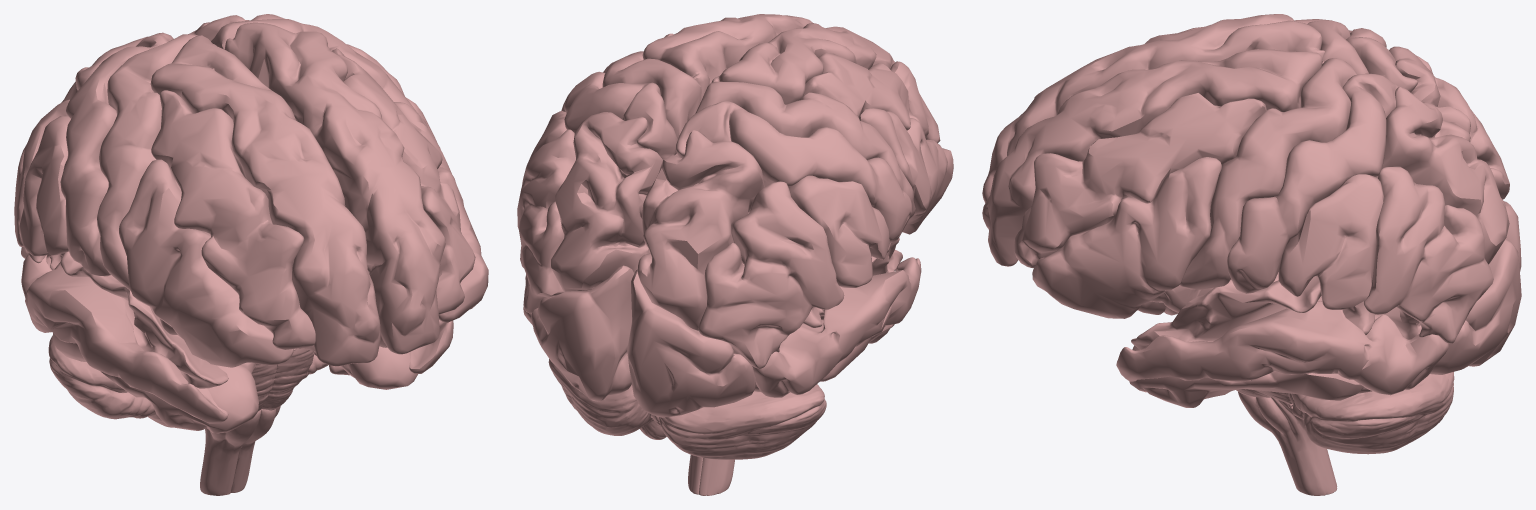
The model's file is brain.glb.
3 views of the same model, side by side, from view 1: azimuth 30°, elevation 25°; view 2: azimuth 150°, elevation 25°; view 3: azimuth 270°, elevation 25° (orthographic). The views are drawn at different scales.
Visible parts, largest first — view 1: FJ1834 · segment of brain, FJ1833 · segment of brain, FJ1788 · segment of brain, FJ1745 · segment of brain, FJ1790 · segment of brain, FJ1801 · segment of brain, FJ1798 · segment of brain, FJ1787 · segment of brain, FJ1842 · segment of brain, FJ1806 · anatomical cluster, FJ1747 · segment of brain, FJ1830 · physical anatomical entity (+11 smaller); view 2: FJ1733 · segment of brain, FJ1836 · segment of brain, FJ1835 · segment of brain, FJ1792 · segment of brain, FJ1798 · segment of brain, FJ1791 · segment of brain, FJ1790 · segment of brain, FJ1830 · physical anatomical entity, FJ1834 · segment of brain, FJ1842 · segment of brain, FJ1732 · segment of brain, FJ1801 · segment of brain (+11 smaller); view 3: FJ1833 · segment of brain, FJ1787 · segment of brain, FJ1789 · segment of brain, FJ1744 · segment of brain, FJ1732 · segment of brain, FJ1797 · segment of brain, FJ1800 · segment of brain, FJ1834 · segment of brain, FJ1841 · segment of brain, FJ1835 · segment of brain, FJ1781 · physical anatomical entity, FJ1758 · anatomical cluster (+7 smaller).
Part boxes in pixels (x1=…): FJ1834 · segment of brain: x1=150, y1=35, x2=380, y2=366; FJ1833 · segment of brain: x1=224, y1=22, x2=445, y2=354; FJ1788 · segment of brain: x1=151, y1=90, x2=315, y2=349; FJ1745 · segment of brain: x1=119, y1=159, x2=293, y2=367; FJ1790 · segment of brain: x1=21, y1=254, x2=228, y2=423; FJ1801 · segment of brain: x1=97, y1=34, x2=198, y2=290; FJ1798 · segment of brain: x1=60, y1=32, x2=173, y2=276; FJ1787 · segment of brain: x1=332, y1=48, x2=475, y2=314; FJ1842 · segment of brain: x1=19, y1=116, x2=70, y2=256; FJ1806 · anatomical cluster: x1=50, y1=251, x2=315, y2=388; FJ1747 · segment of brain: x1=52, y1=333, x2=258, y2=433; FJ1830 · physical anatomical entity: x1=48, y1=335, x2=172, y2=427; FJ1733 · segment of brain: x1=698, y1=181, x2=844, y2=368; FJ1836 · segment of brain: x1=637, y1=130, x2=764, y2=330; FJ1835 · segment of brain: x1=551, y1=112, x2=662, y2=292; FJ1792 · segment of brain: x1=627, y1=269, x2=755, y2=417; FJ1798 · segment of brain: x1=676, y1=101, x2=912, y2=242; FJ1791 · segment of brain: x1=531, y1=265, x2=634, y2=401; FJ1790 · segment of brain: x1=752, y1=257, x2=921, y2=397; FJ1830 · physical anatomical entity: x1=659, y1=384, x2=826, y2=459; FJ1834 · segment of brain: x1=711, y1=23, x2=895, y2=104; FJ1842 · segment of brain: x1=789, y1=175, x2=889, y2=287; FJ1732 · segment of brain: x1=517, y1=129, x2=575, y2=313; FJ1801 · segment of brain: x1=695, y1=81, x2=915, y2=219; FJ1833 · segment of brain: x1=982, y1=49, x2=1323, y2=266; FJ1787 · segment of brain: x1=1014, y1=93, x2=1266, y2=267; FJ1789 · segment of brain: x1=1116, y1=301, x2=1448, y2=395; FJ1744 · segment of brain: x1=1032, y1=157, x2=1221, y2=318; FJ1732 · segment of brain: x1=1364, y1=166, x2=1493, y2=343; FJ1797 · segment of brain: x1=1227, y1=73, x2=1398, y2=293; FJ1800 · segment of brain: x1=1180, y1=58, x2=1357, y2=289; FJ1834 · segment of brain: x1=982, y1=14, x2=1324, y2=202; FJ1841 · segment of brain: x1=1278, y1=174, x2=1384, y2=309; FJ1835 · segment of brain: x1=1375, y1=87, x2=1509, y2=264; FJ1781 · physical anatomical entity: x1=1289, y1=372, x2=1454, y2=454; FJ1758 · anatomical cluster: x1=1131, y1=272, x2=1421, y2=349.
Size of the model in its own units: 2.58 by 3.09 by 3.35.
